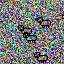sheep: (33, 52, 49, 63), (37, 16, 51, 28), (17, 24, 32, 35), (23, 32, 38, 43)
